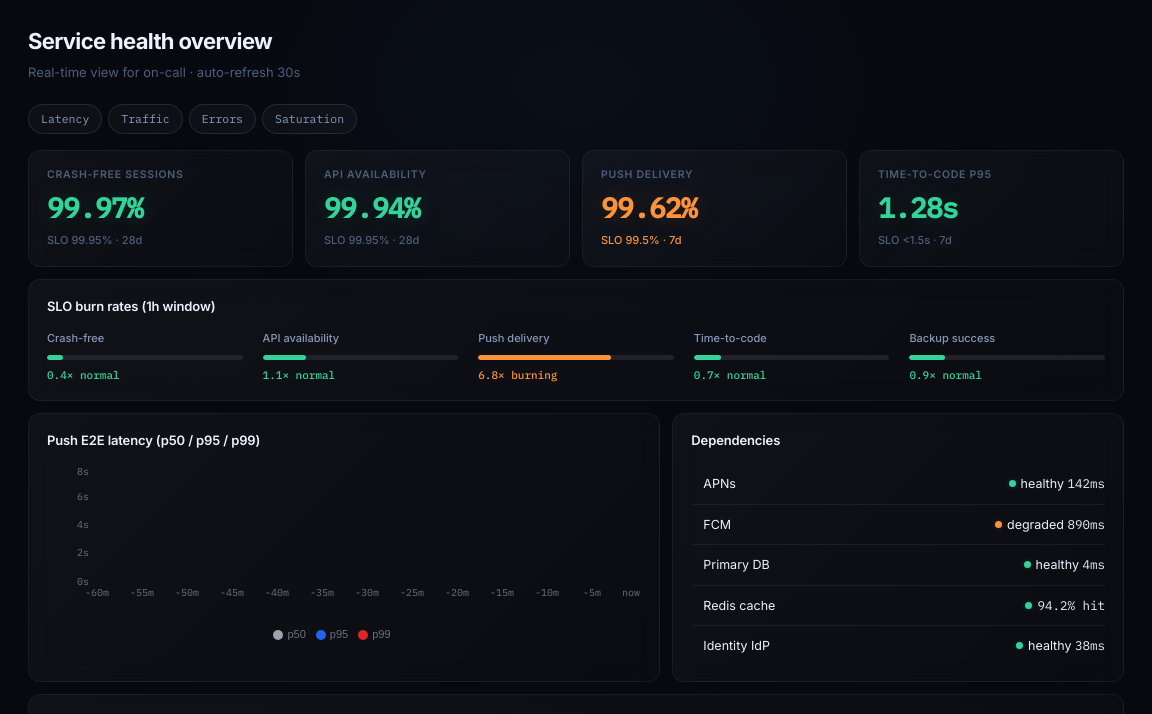
Test: SREDashboard — golden signal filter › clears filter when "✕ clear" is clicked
Click the button "Traffic": click(145, 119) [108,104,183,134]
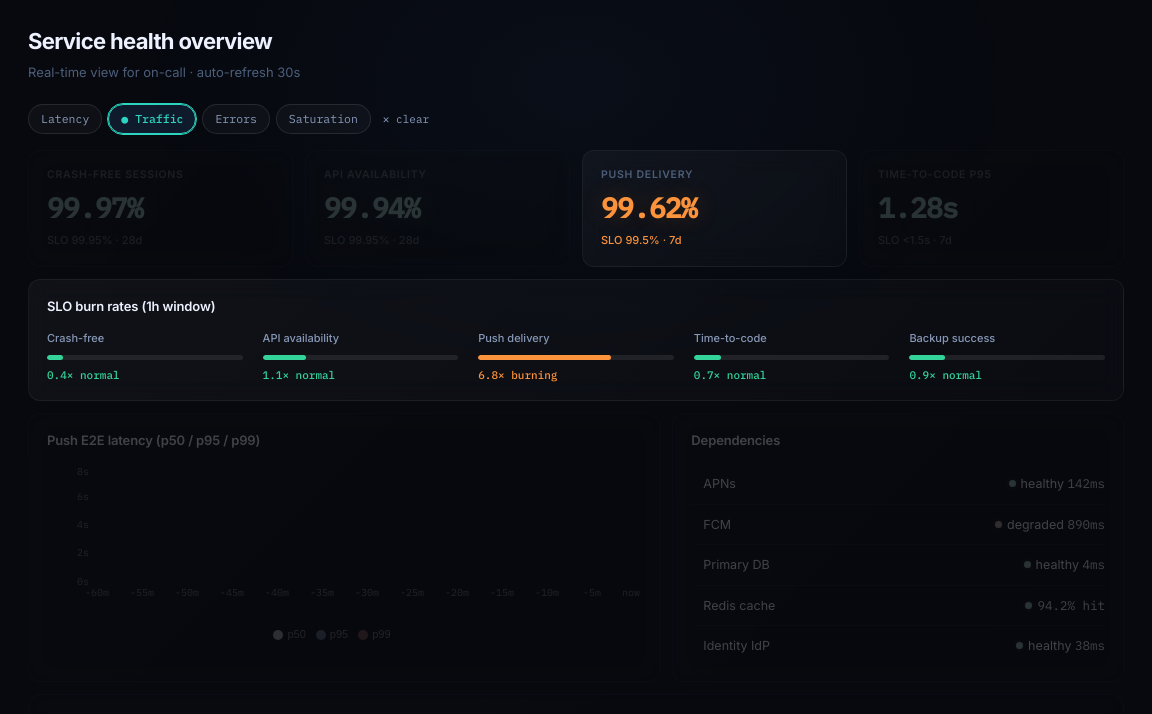
Click the button "✕ clear": click(406, 119) [377,104,435,134]
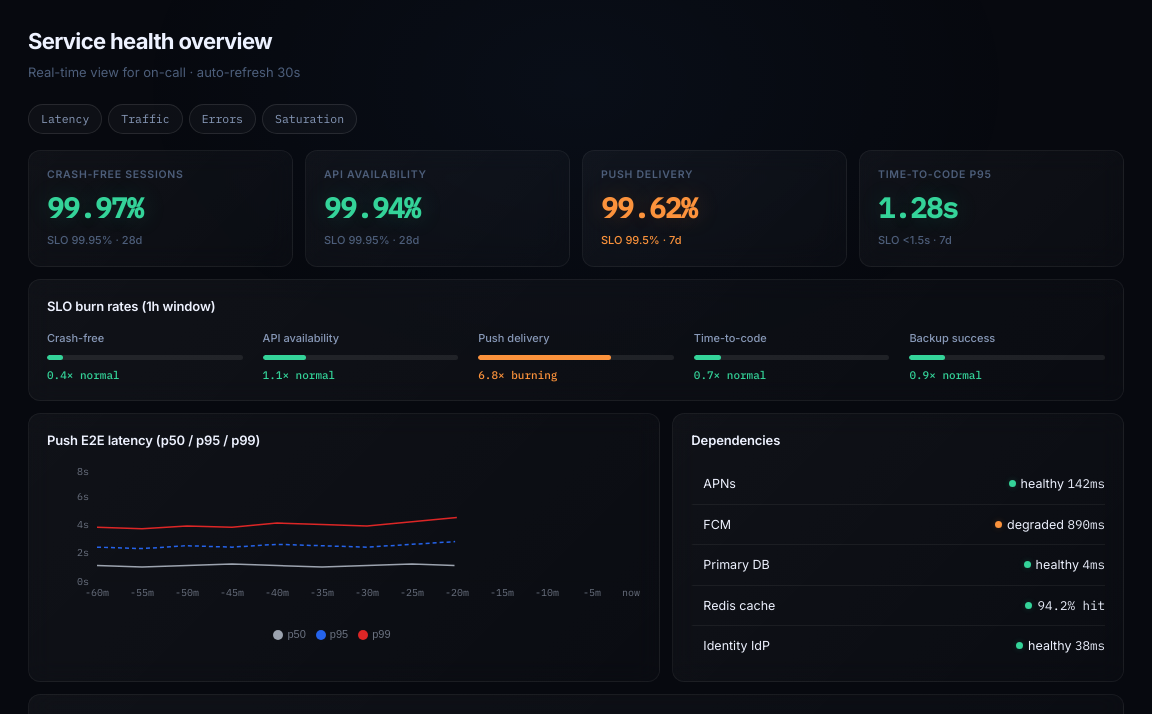
Expected: the button "clear" is gone
